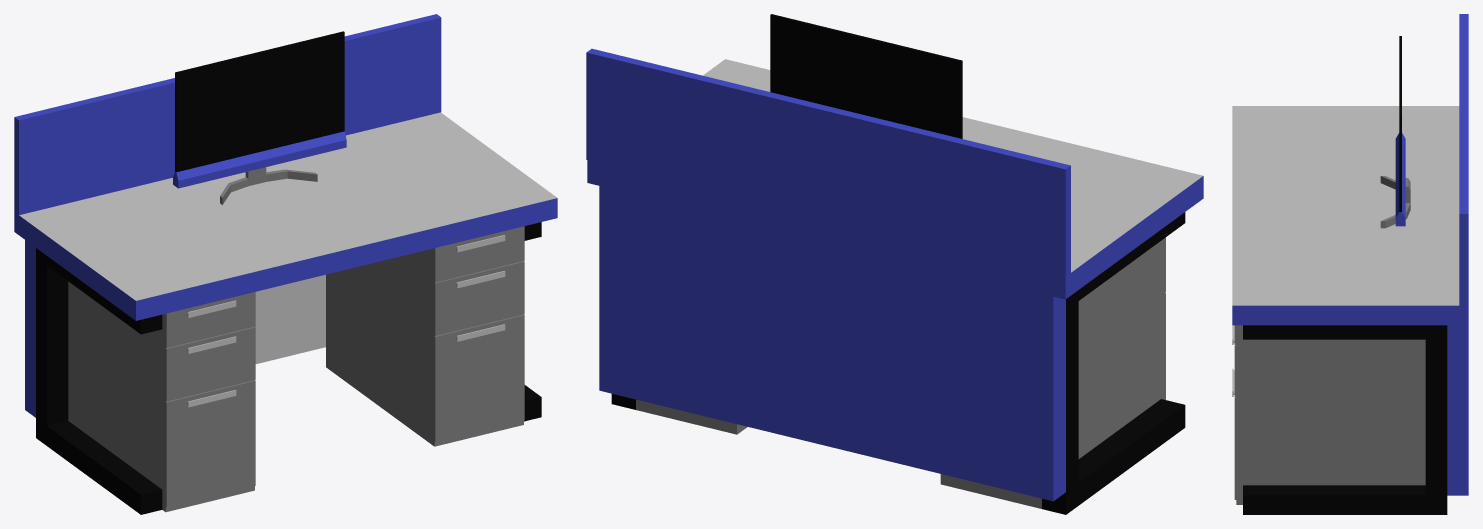
Rendered from オフィステーブル.fbx.
3 renders of one model, left to right at view 1: azimuth 30°, elevation 25°; view 2: azimuth 150°, elevation 25°; view 3: azimuth 270°, elevation 25°, orthographic. The views are drawn at different scales.
Visible parts, largest first — view 1: オフィステーブル(OT), 仕切り, pc_ディスプレイ_ベゼルレス.001; view 2: オフィステーブル(OT), 仕切り, pc_ディスプレイ_ベゼルレス.001; view 3: オフィステーブル(OT), 仕切り, pc_ディスプレイ_ベゼルレス.001.
Boxes of the visible parts, x1,y1,x2,y2 form: オフィステーブル(OT): (14, 112, 557, 514); 仕切り: (14, 14, 441, 215); pc_ディスプレイ_ベゼルレス.001: (173, 31, 346, 204); オフィステーブル(OT): (587, 59, 1203, 514); 仕切り: (586, 48, 1070, 276); pc_ディスプレイ_ベゼルレス.001: (770, 14, 962, 138); オフィステーブル(OT): (1232, 106, 1468, 514); 仕切り: (1459, 14, 1468, 305); pc_ディスプレイ_ベゼルレス.001: (1380, 36, 1410, 228).
Bounding box in the file's own units: 156 × 77.98 × 125.
